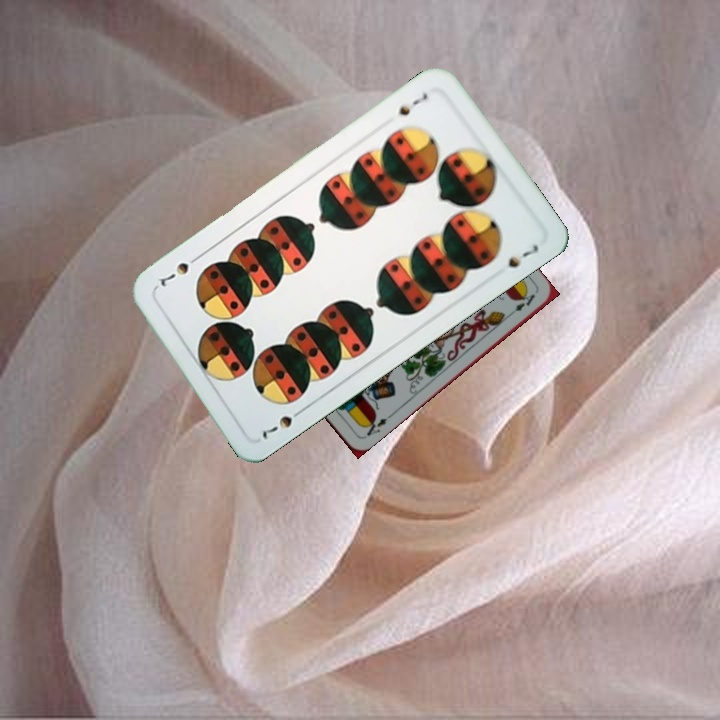EA: (359, 412, 390, 441)
S7: (258, 403, 307, 443), (394, 89, 430, 119)
